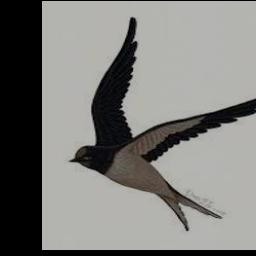Swallow: (68, 17, 256, 230)
